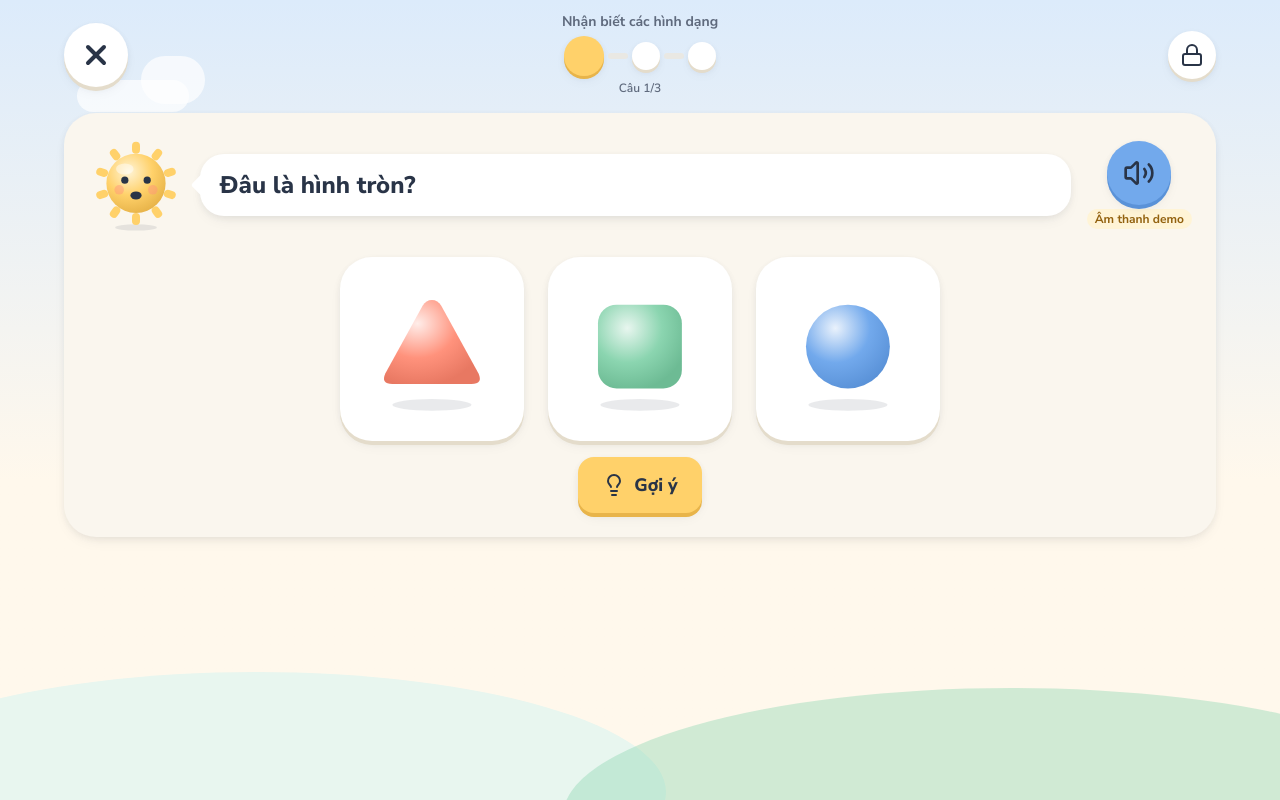
Test case: LessonPlayer (server-graded session) › hint fades out one wrong option
This screenshot has width=1280, height=800.
Click the button "Gợi ý".
click(640, 485)  # box [578,457,702,513]
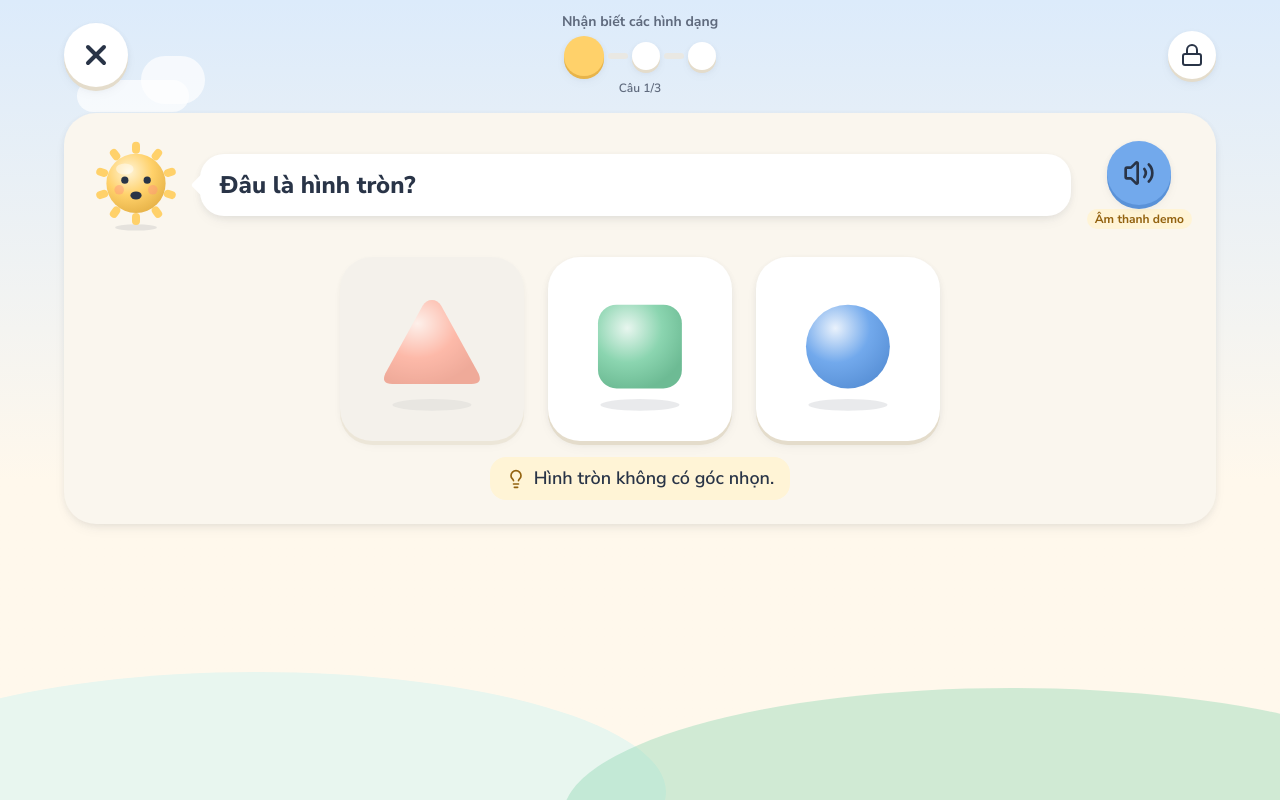
Expected: the text "Hình tròn không có góc nhọn." is shown, [490,457,790,500]
